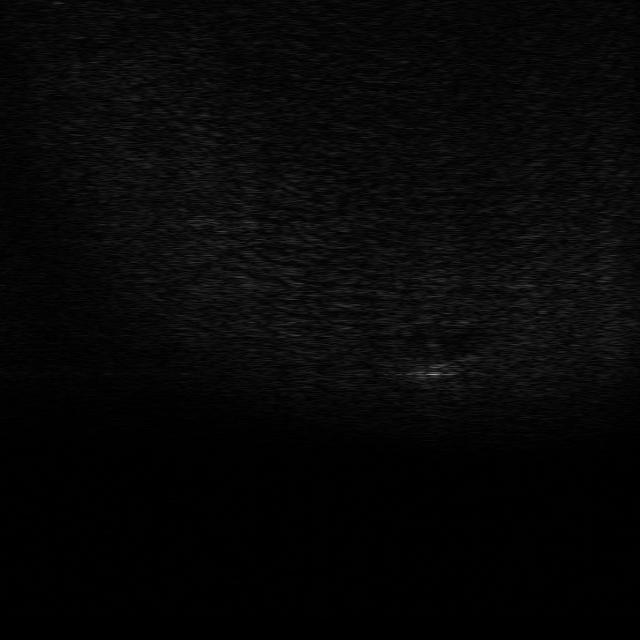plane: (405, 346, 485, 388)
